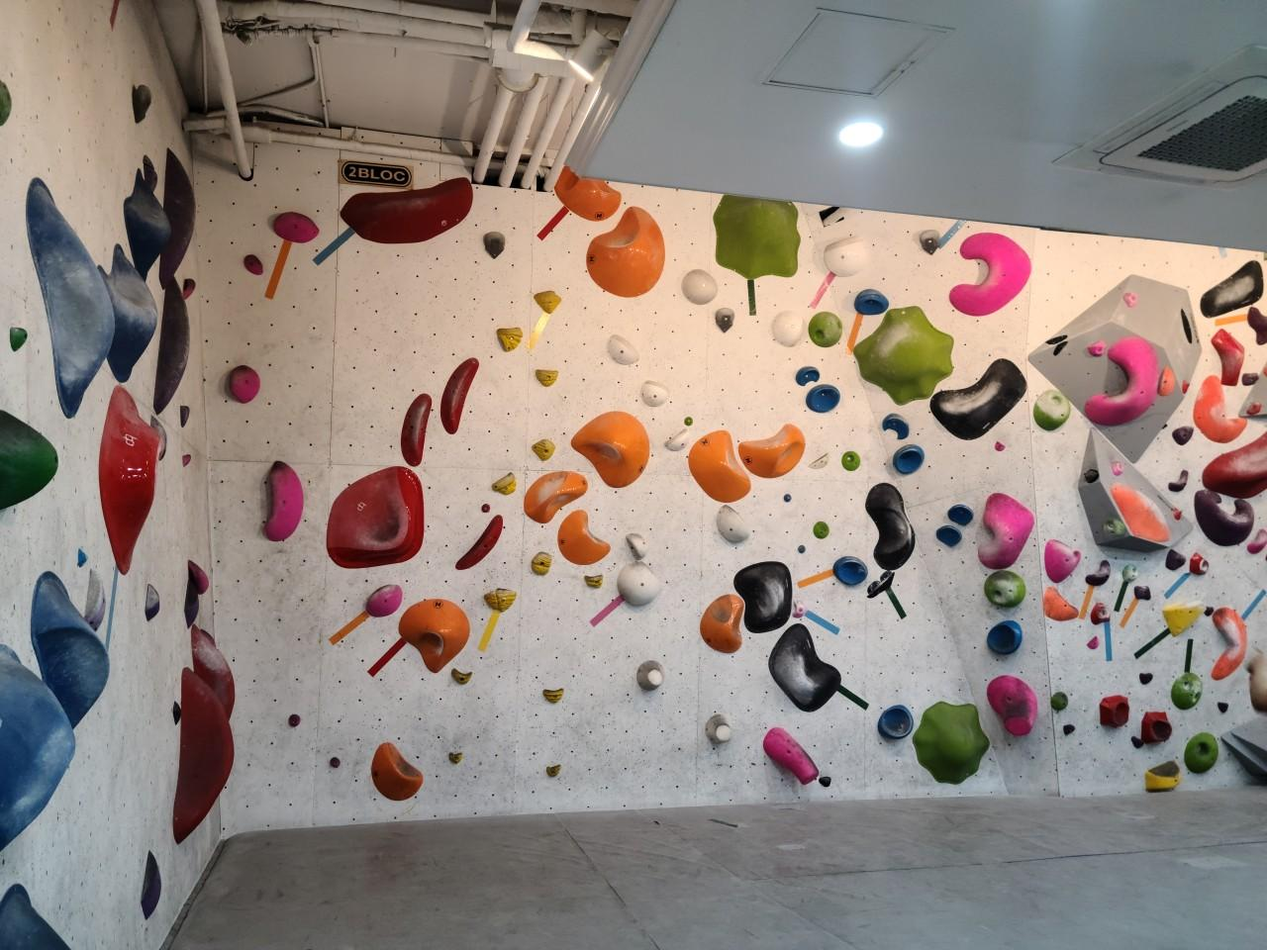hold: (27, 179, 114, 417), (0, 645, 74, 849), (32, 572, 110, 729), (99, 385, 158, 574), (173, 668, 234, 841), (852, 307, 954, 406), (326, 466, 422, 569), (341, 177, 472, 243), (98, 246, 156, 383), (929, 358, 1025, 439), (712, 194, 801, 279), (586, 206, 664, 297), (912, 701, 991, 785), (1085, 336, 1158, 426), (949, 234, 1029, 316), (768, 623, 839, 711), (571, 412, 649, 488), (0, 411, 57, 509), (159, 147, 195, 290), (400, 600, 469, 672), (124, 169, 169, 279), (154, 280, 189, 416), (689, 431, 752, 503), (0, 885, 70, 949), (733, 561, 792, 633), (1203, 431, 1266, 498), (978, 493, 1033, 569), (866, 484, 913, 570), (192, 624, 235, 717), (554, 166, 621, 220), (1200, 260, 1263, 317), (739, 424, 805, 478), (1194, 375, 1246, 441), (1194, 490, 1253, 547), (1111, 485, 1168, 542), (525, 472, 587, 524), (440, 357, 480, 436), (764, 727, 819, 784), (263, 461, 301, 540), (987, 675, 1036, 736), (372, 743, 422, 800), (558, 510, 610, 564), (700, 595, 744, 652), (457, 515, 502, 569), (1212, 608, 1246, 679), (401, 394, 432, 466), (618, 562, 661, 606), (824, 236, 868, 276), (1212, 329, 1243, 385), (1033, 387, 1071, 430), (1044, 539, 1081, 581), (985, 570, 1025, 607), (272, 212, 319, 242), (141, 851, 161, 920), (1185, 732, 1218, 773), (1163, 603, 1204, 636), (84, 570, 105, 633), (682, 269, 718, 304), (808, 311, 842, 346), (987, 620, 1022, 654), (366, 584, 402, 617), (878, 705, 914, 738), (1144, 760, 1181, 792), (1043, 587, 1078, 620), (229, 365, 259, 403), (717, 506, 747, 543), (772, 311, 803, 346), (1173, 671, 1201, 709), (1141, 711, 1171, 743), (833, 556, 867, 584), (893, 444, 924, 474), (807, 384, 839, 413), (854, 289, 889, 315), (607, 334, 637, 364), (1100, 695, 1127, 727), (636, 660, 663, 690), (150, 415, 167, 461), (705, 713, 731, 743), (640, 380, 668, 406), (486, 588, 516, 612), (185, 576, 199, 626), (188, 561, 209, 593), (883, 414, 908, 439), (1101, 515, 1127, 539), (534, 290, 561, 313), (664, 427, 691, 450), (1086, 561, 1111, 584), (492, 472, 516, 495), (497, 328, 522, 350), (1158, 366, 1176, 394), (936, 526, 961, 546), (532, 438, 554, 460), (0, 81, 11, 125), (947, 506, 972, 525), (1247, 528, 1266, 553), (146, 584, 159, 619), (628, 533, 646, 558), (796, 366, 819, 385), (143, 155, 155, 189), (1046, 335, 1067, 354), (1190, 553, 1208, 575), (1090, 603, 1109, 623), (1169, 470, 1187, 491), (532, 551, 549, 573), (1167, 550, 1185, 570), (1173, 427, 1193, 444), (1181, 310, 1191, 344), (244, 254, 260, 275), (11, 328, 27, 349), (809, 452, 828, 468), (536, 370, 556, 385), (451, 670, 472, 684), (1051, 693, 1068, 710), (182, 278, 195, 300), (543, 688, 563, 702), (1246, 401, 1262, 417), (843, 454, 858, 469), (1084, 468, 1099, 483), (1241, 372, 1258, 385), (814, 522, 828, 537), (76, 548, 87, 566), (586, 573, 601, 586), (1135, 586, 1150, 599), (180, 406, 189, 427), (1089, 340, 1103, 353), (1124, 292, 1137, 306), (1111, 461, 1123, 476), (793, 602, 804, 618), (1122, 566, 1135, 579), (546, 764, 560, 776), (173, 701, 180, 724), (1130, 735, 1143, 747), (1140, 673, 1151, 684), (450, 752, 462, 762), (1088, 635, 1097, 648), (1182, 379, 1189, 395), (1173, 508, 1182, 520), (1204, 607, 1214, 617), (289, 715, 299, 725), (182, 454, 190, 466), (821, 776, 830, 786), (1218, 702, 1227, 712), (1065, 724, 1074, 734), (330, 758, 339, 767), (995, 442, 1004, 450), (481, 504, 490, 512), (685, 417, 691, 426), (784, 495, 790, 502), (799, 545, 805, 552)
volume: (1029, 275, 1201, 461), (1077, 429, 1191, 551), (1221, 713, 1267, 786), (1236, 360, 1266, 418)
